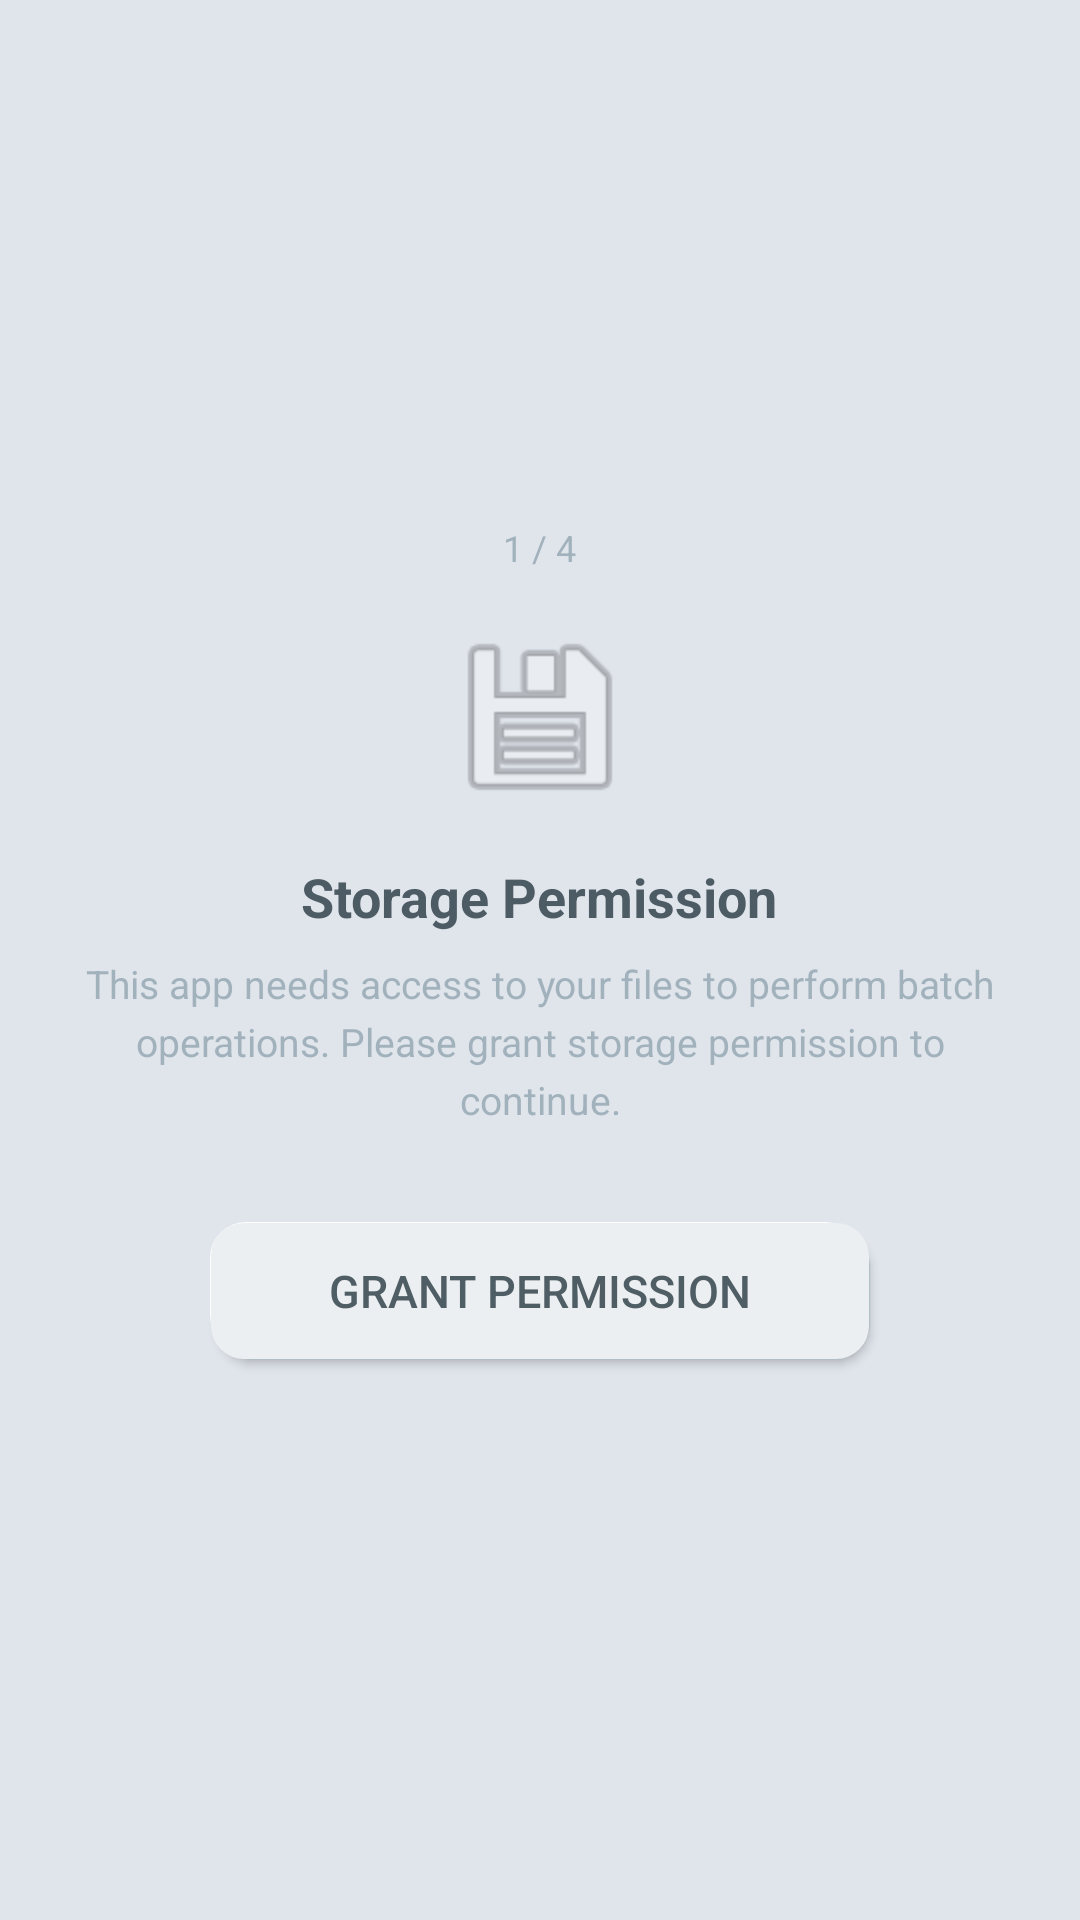

Point at icon controls on the screen. Image size 1080 x 1920, points as (x,y).
save: (540,717)
